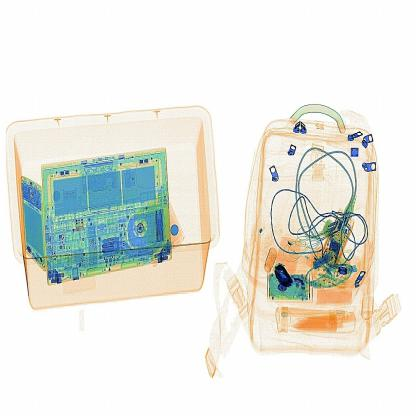scissors: (270, 245, 298, 291)
